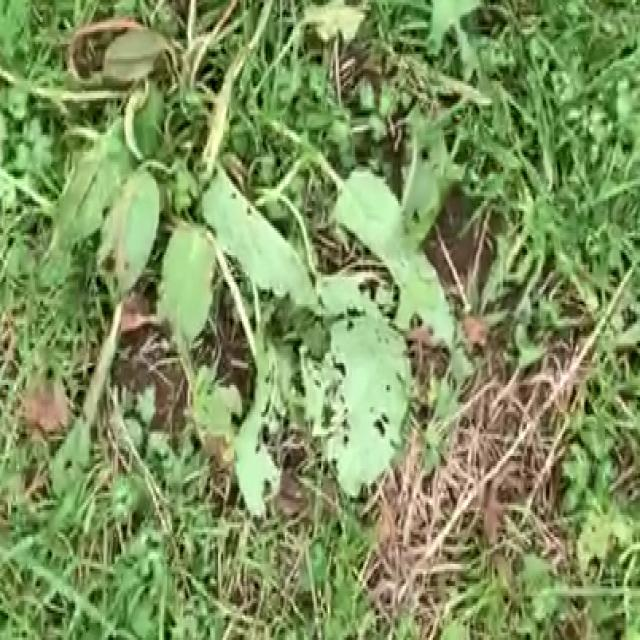organic waste: (86, 32, 489, 549)
